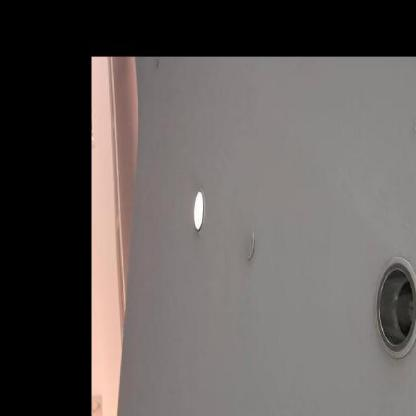light_off: (369, 234, 415, 369)
